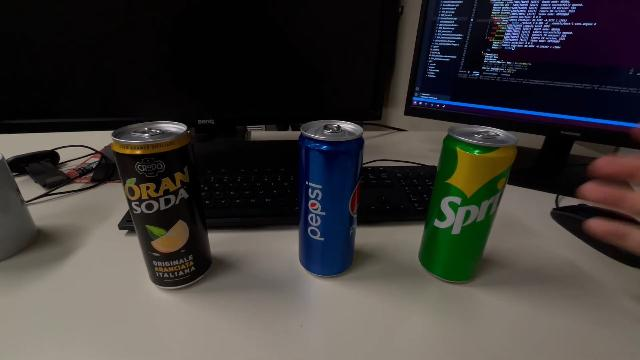OranSoda: (109, 119, 215, 293)
Pepsi: (295, 118, 365, 282)
Sprite: (418, 120, 520, 288)
